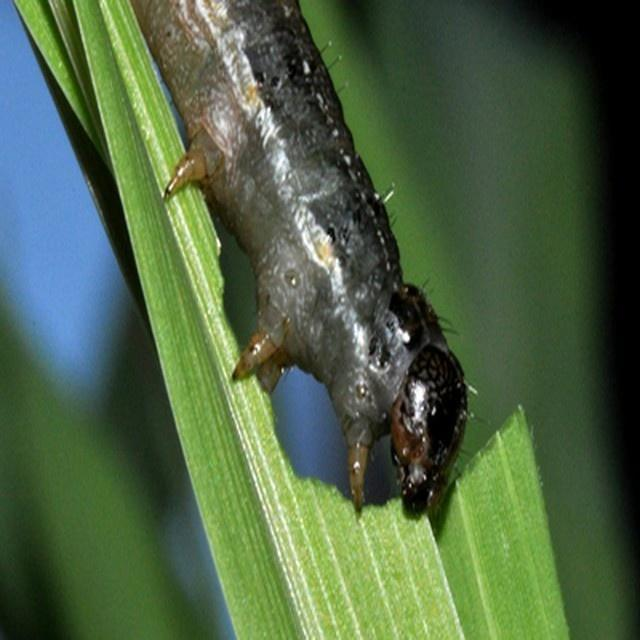worm: (110, 1, 477, 519), (382, 280, 476, 518)
